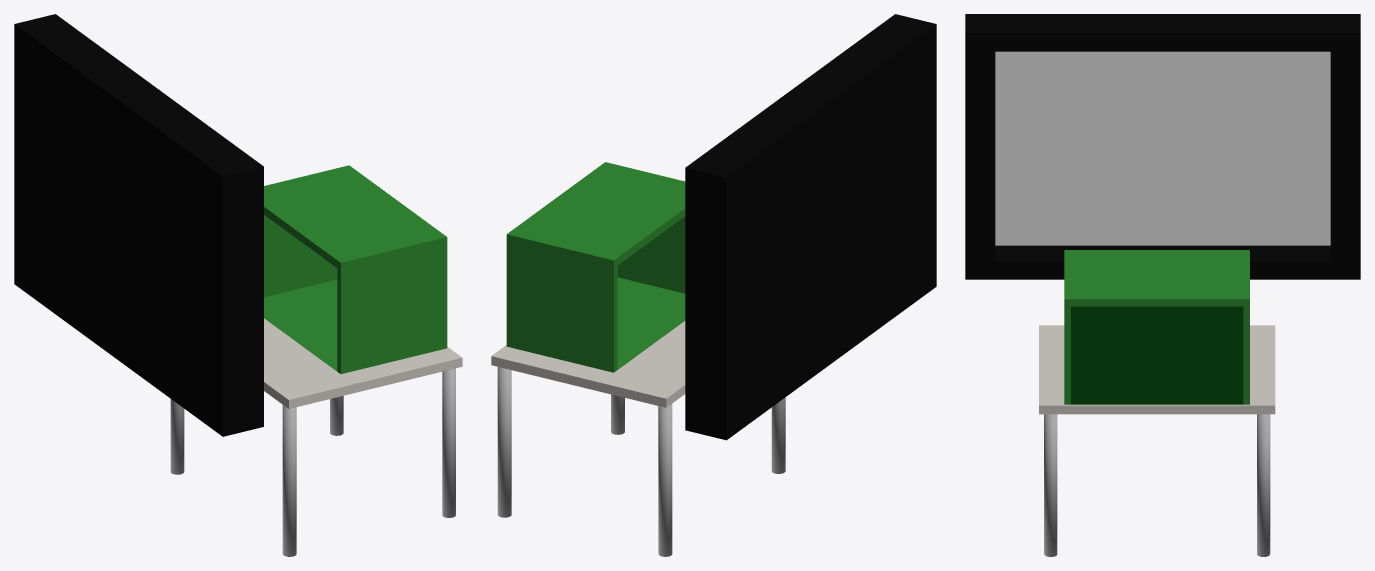
The model's file is Dibujo con espejo ajustado 3.fbx.
The picture shows the model from 3 angles, left to right: view 1: azimuth 30°, elevation 25°; view 2: azimuth 150°, elevation 25°; view 3: azimuth 270°, elevation 25°; orthographic projection. The views are drawn at different scales.
Parts seen in each view (by area): view 1: Case espejo dibujo, Caja dibujo, Mesa, Patas mesa dibujo; view 2: Case espejo dibujo, Caja dibujo, Mesa, Patas mesa dibujo; view 3: Espejo dibujo, Case espejo dibujo, Tapa vision espejo, Caja dibujo, Mesa, Patas mesa dibujo.
Part boxes in pixels (x1,y1,x2,y2): Case espejo dibujo: (14, 14, 263, 436); Caja dibujo: (264, 165, 447, 373); Mesa: (264, 318, 462, 408); Patas mesa dibujo: (170, 368, 455, 556); Case espejo dibujo: (685, 14, 936, 440); Caja dibujo: (506, 162, 685, 372); Mesa: (491, 321, 685, 407); Patas mesa dibujo: (497, 367, 785, 556); Espejo dibujo: (995, 51, 1330, 245); Case espejo dibujo: (965, 14, 1360, 279); Tapa vision espejo: (1071, 306, 1243, 404); Caja dibujo: (1064, 250, 1249, 404); Mesa: (1039, 325, 1275, 414); Patas mesa dibujo: (1044, 414, 1270, 556).
Bounding box in the file's own units: 207 × 159 × 240.
